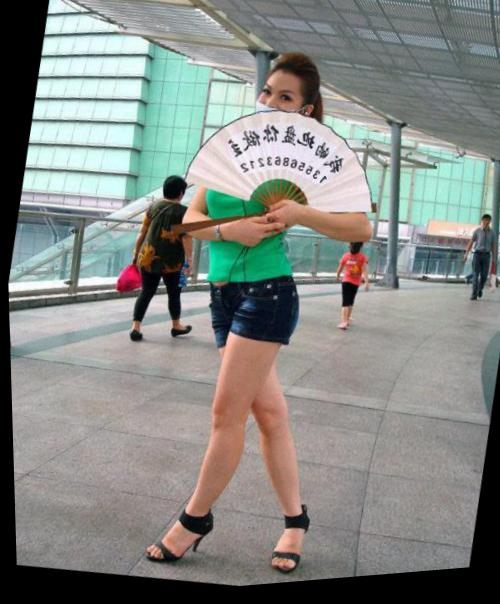WRONG: (252, 88, 301, 141)
